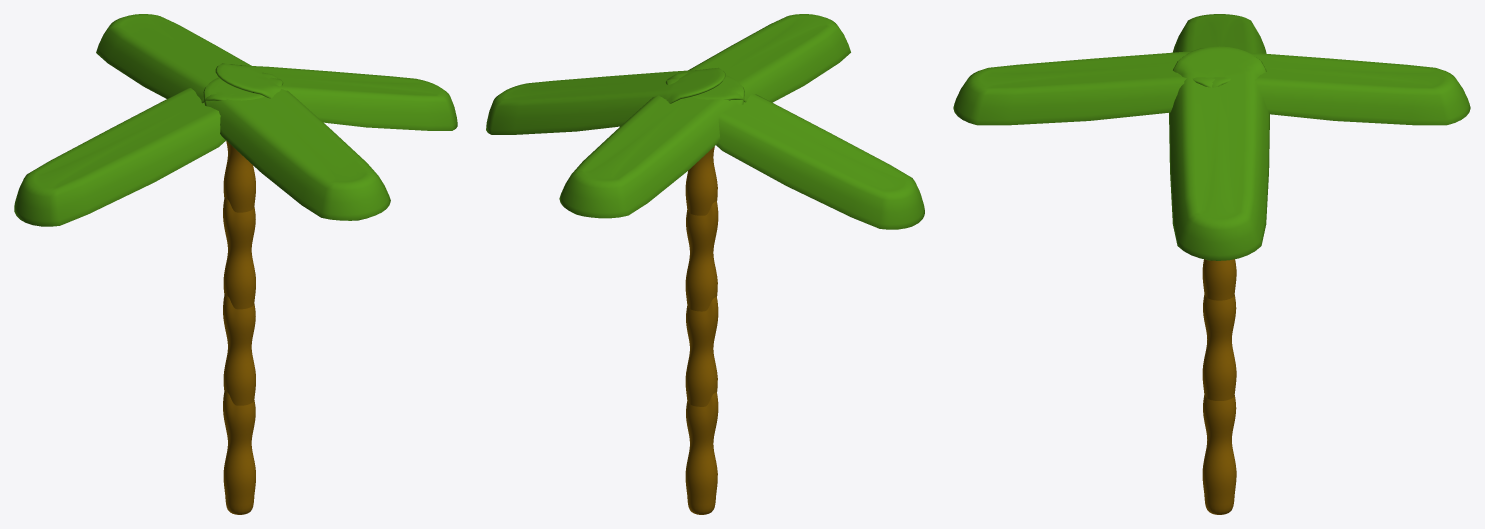
File: NeoTallTree.fbx
3 renders of one model, left to right at view 1: azimuth 30°, elevation 25°; view 2: azimuth 150°, elevation 25°; view 3: azimuth 270°, elevation 25°, orthographic. The views are drawn at different scales.
Parts seen in each view (by area): view 1: pCylinder10; view 2: pCylinder10; view 3: pCylinder10.
Boxes of the visible parts, box(x1,y1,x2,y2) form: pCylinder10: box(14, 14, 457, 514); pCylinder10: box(486, 14, 924, 514); pCylinder10: box(953, 14, 1470, 514).
Bounding box in the file's own units: 11.72 × 11.37 × 11.68.
